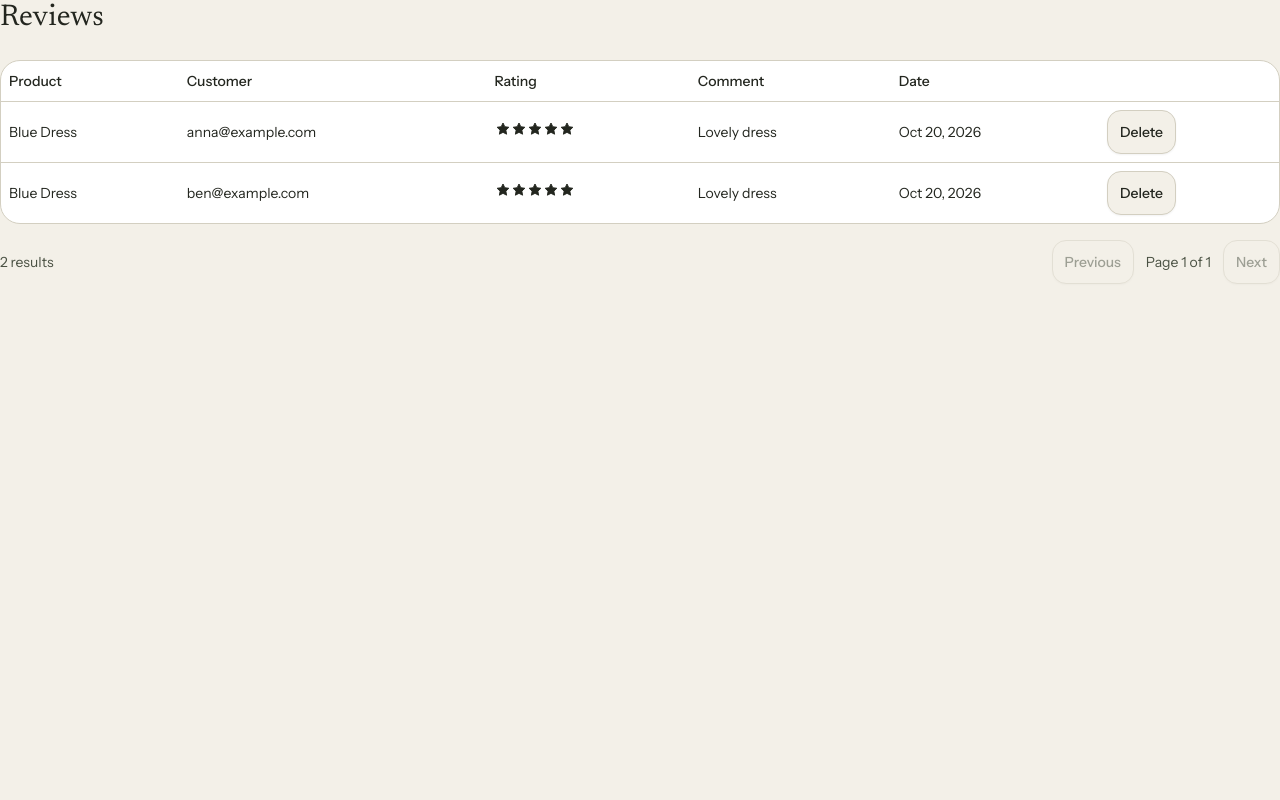
Test: admin ReviewsPage › deleting › deletes after "Yes, delete review", says so in a toast and the review leaves the list
This screenshot has width=1280, height=800.
Click the button with aria-label "Delete the review by anna@example.com".
click(1142, 132)  # box [1107,110,1176,154]
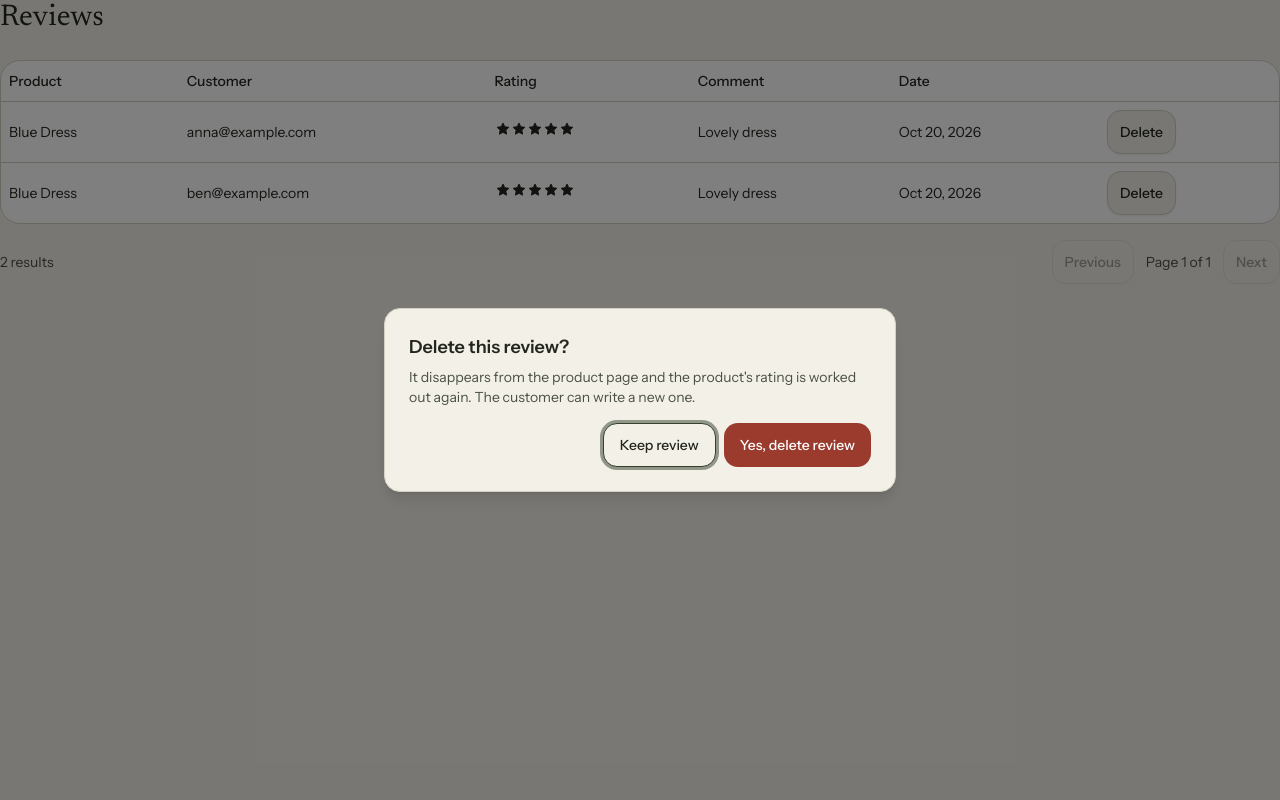
Click the button "Yes, delete review".
click(797, 445)  # box [724,423,871,467]
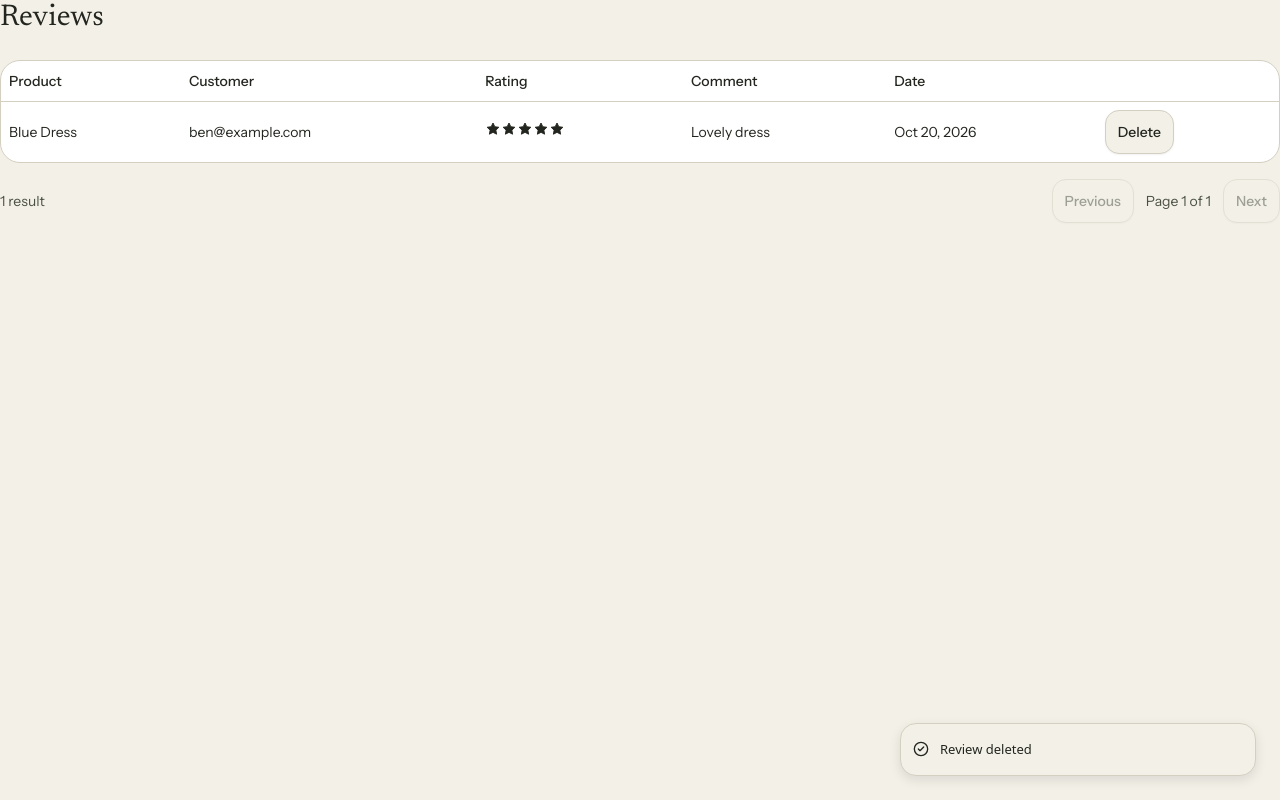
Expected: the text "ben@example.com" is shown, [181,101,477,162]
Result: the text "Review deleted" is shown at [940,740,1032,759]
Result: the text "anna@example.com" is gone
